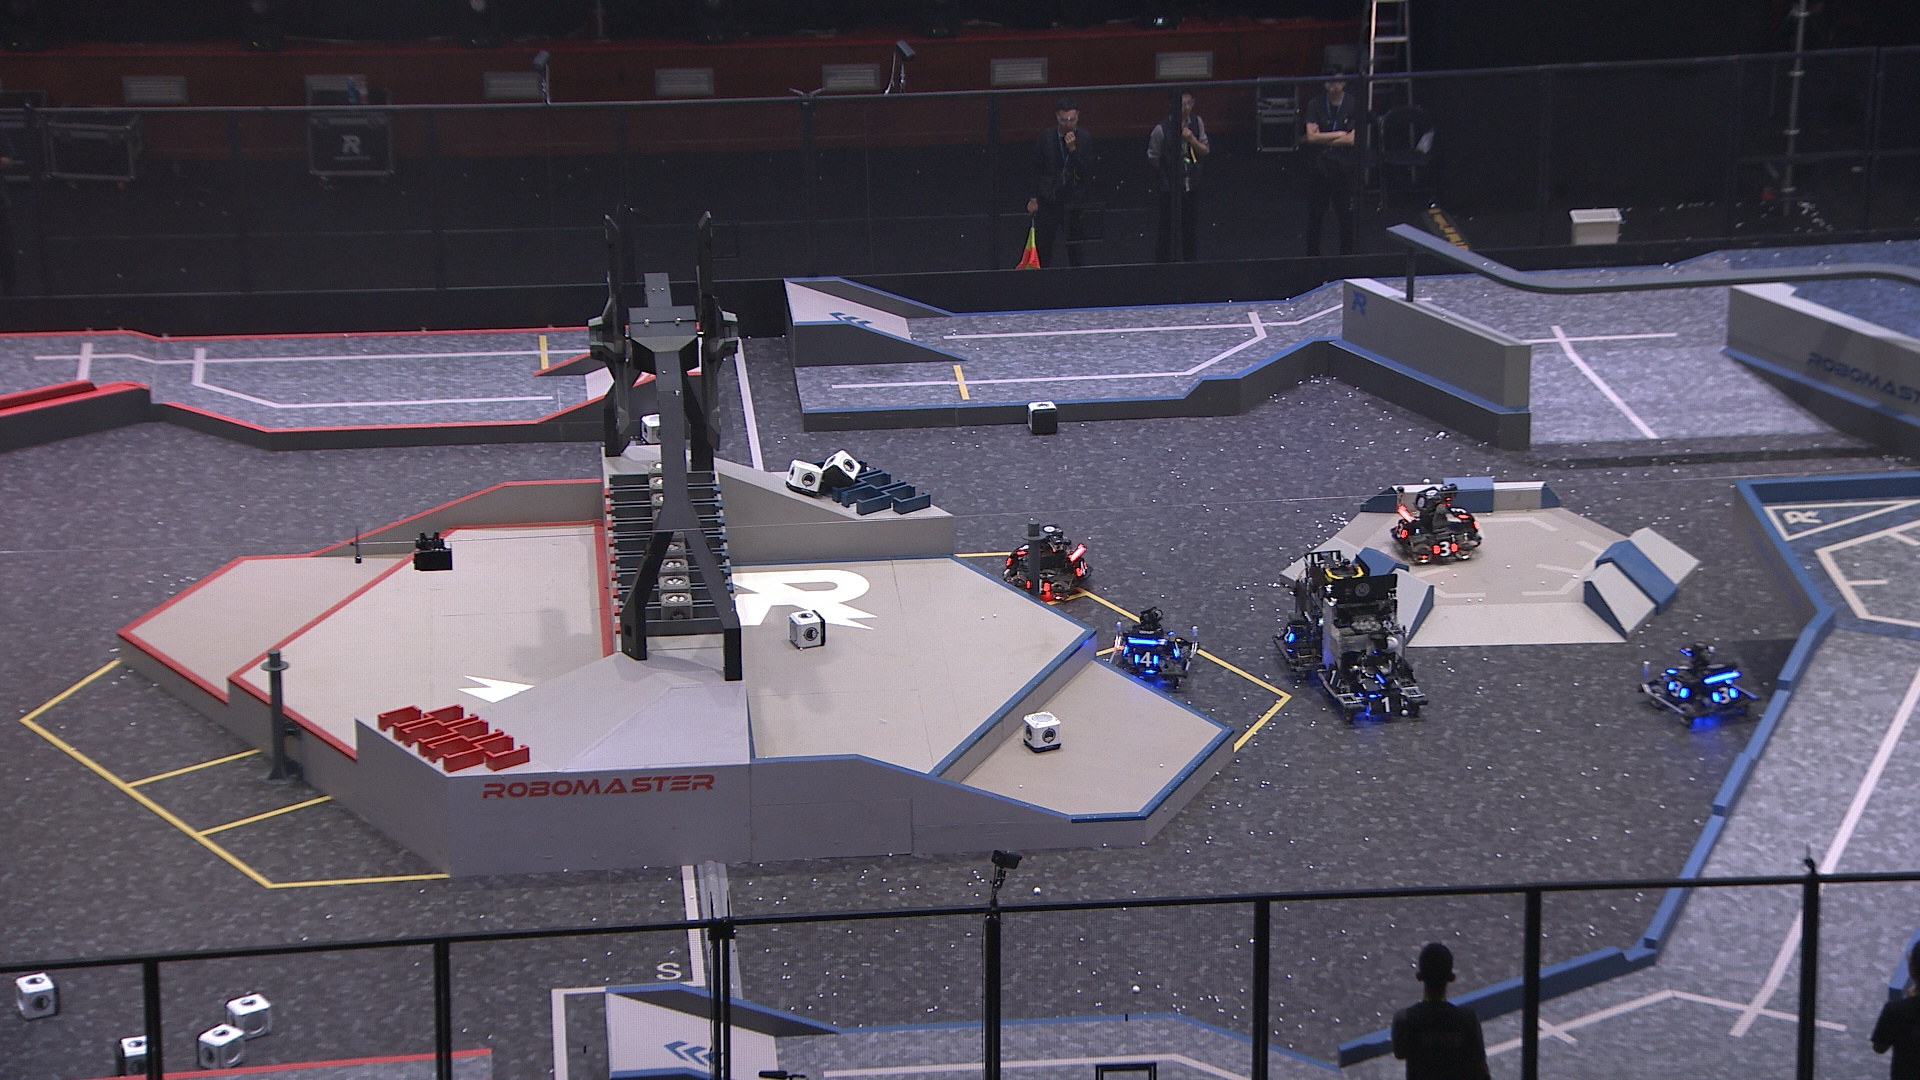armor: (1366, 695, 1404, 713), (1364, 678, 1399, 694), (1324, 666, 1344, 694), (1130, 651, 1159, 670), (1025, 576, 1050, 597), (1432, 541, 1460, 556), (1665, 679, 1689, 695), (1665, 661, 1688, 676), (1280, 622, 1295, 646), (1073, 560, 1091, 580), (1451, 502, 1470, 520), (1713, 687, 1735, 702), (1393, 522, 1408, 542), (1168, 641, 1183, 659), (1015, 541, 1031, 556)
car: (1313, 575, 1429, 719), (1275, 549, 1378, 674), (1636, 640, 1759, 727), (1389, 477, 1484, 564), (1000, 517, 1093, 603), (1112, 605, 1193, 690)
